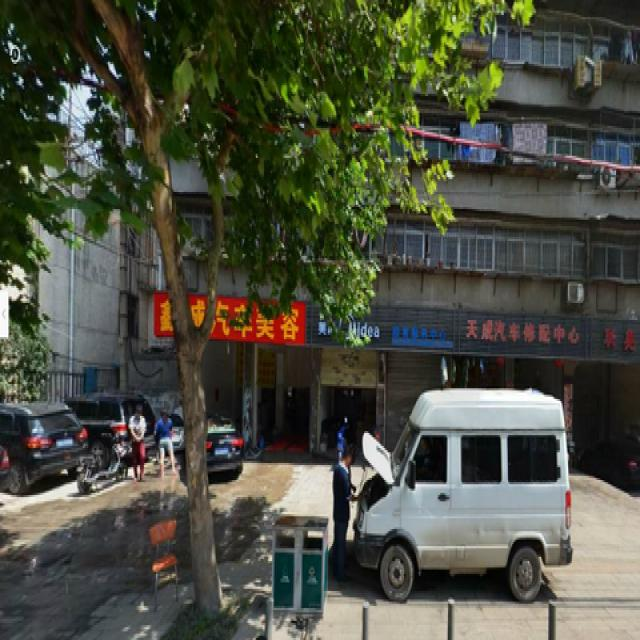meta: (51, 6, 369, 604)
